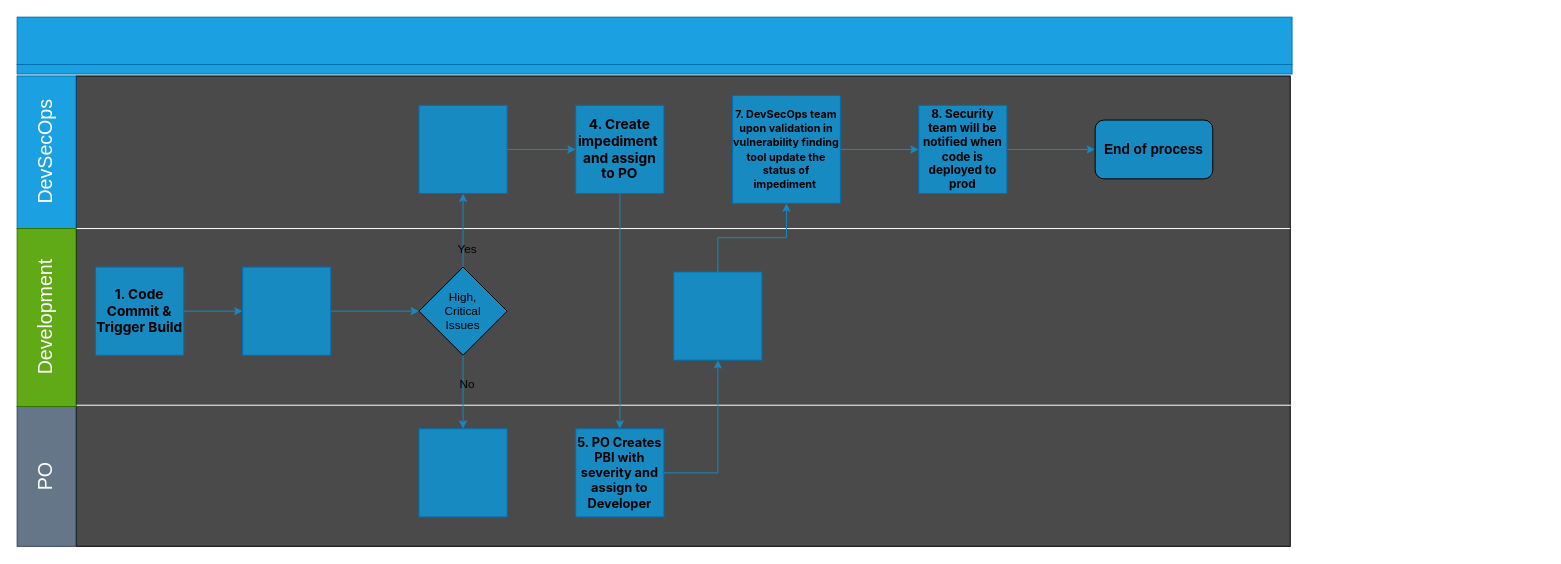
This 1561x564 diagram has some shape labels left out. The centre of each missing label's shape, as x and y in pixels:
2. CI Triggers Trivy scan: the point at 286,310
3. Continue Build without any issues: the point at 462,472
3. High,Critical issue found: the point at 462,149
6. Dev team works on the PBI and push code with fixing issue: the point at 717,315
Security Impediment Trivy workflow: the point at 654,40
